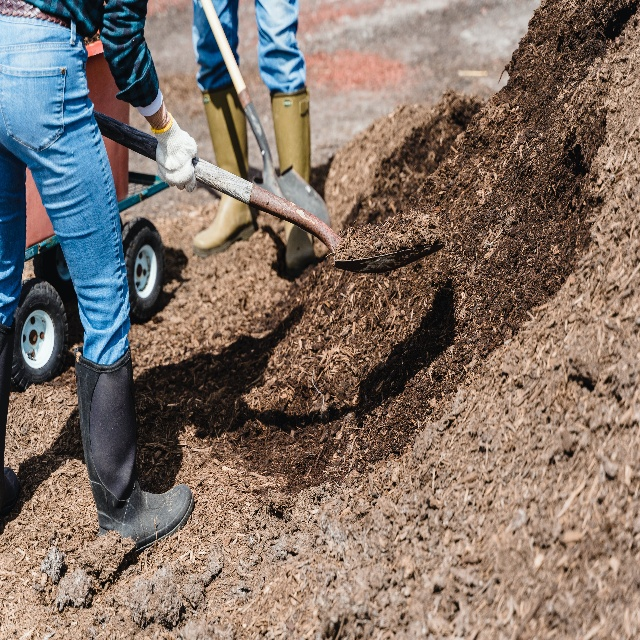Guantes: (149, 118, 197, 193)
